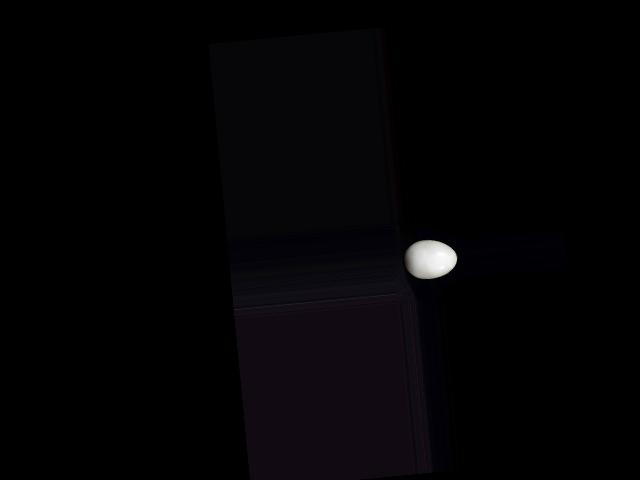egg: (401, 238, 458, 281)
